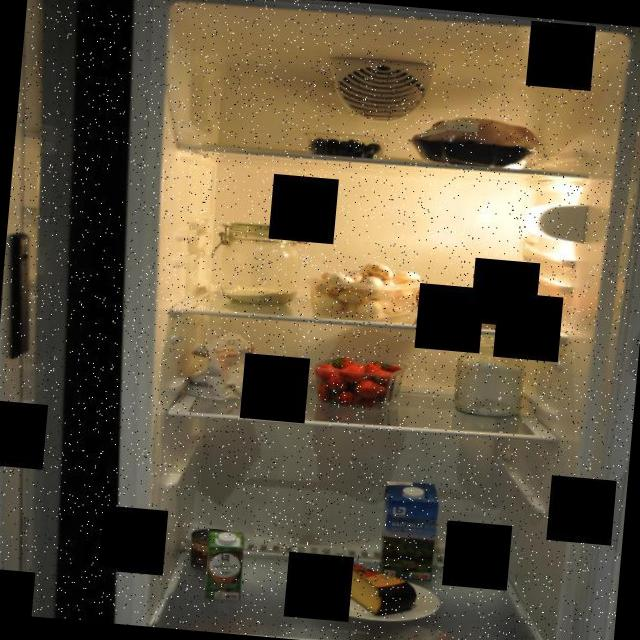Carne pollo: (402, 108, 548, 174)
Champiñones: (314, 254, 426, 327)
Leche: (372, 475, 442, 582)
Queso: (329, 558, 422, 621)
